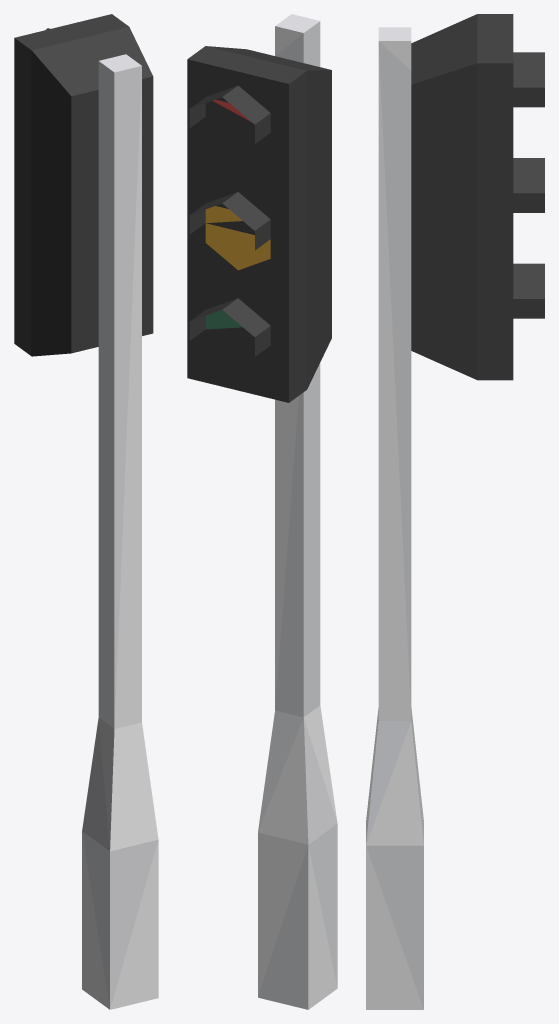
File: lightColored.obj
3 views of the same model, side by side, from view 1: azimuth 30°, elevation 25°; view 2: azimuth 150°, elevation 25°; view 3: azimuth 270°, elevation 25° (orthographic). The views are drawn at different scales.
Parts seen in each view (by area): view 1: lightColored; view 2: lightColored; view 3: lightColored.
Part boxes in pixels (x1,y1,x2,y2): lightColored: [14, 14, 158, 1009]; lightColored: [187, 14, 337, 1009]; lightColored: [366, 14, 544, 1009].
Bounding box in the file's own units: 0.0708 × 0.6457 × 0.1087.
